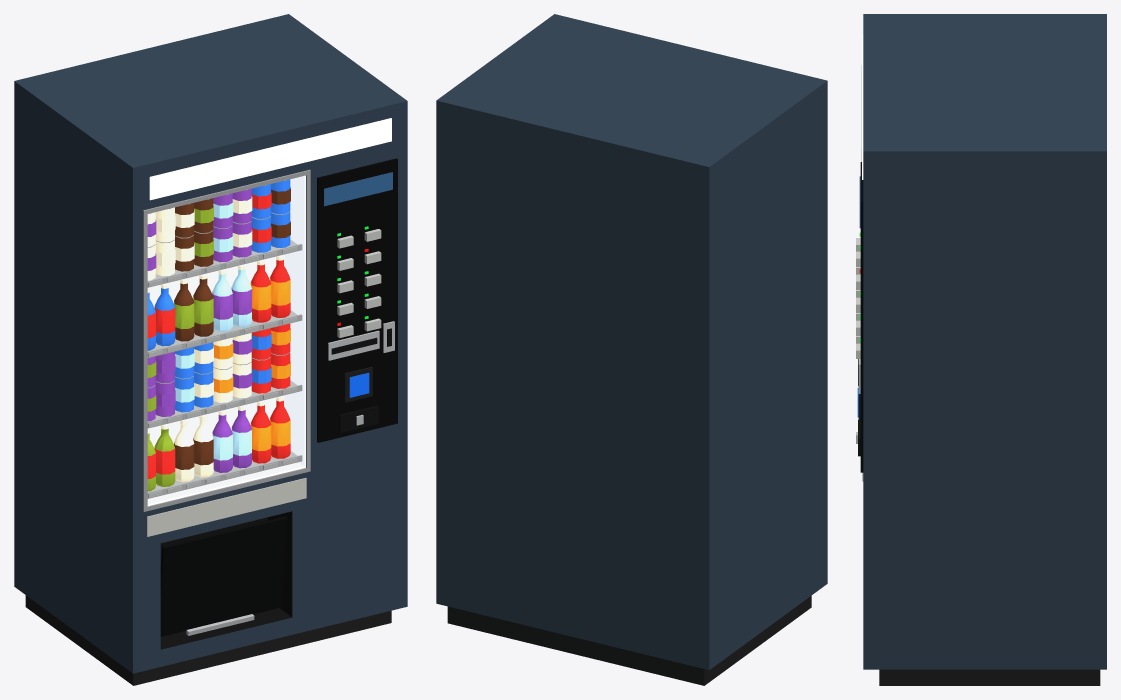
The model's file is gteki_vending_machine.glb.
The picture shows the model from 3 angles, left to right: view 1: azimuth 30°, elevation 25°; view 2: azimuth 150°, elevation 25°; view 3: azimuth 270°, elevation 25°; orthographic projection. The views are drawn at different scales.
Visible parts, largest first — view 1: VIS_body; view 2: VIS_body; view 3: VIS_body.
Part boxes in pixels (left/top/right/bottom): VIS_body: left=14, top=14, right=407, bottom=685; VIS_body: left=436, top=14, right=827, bottom=685; VIS_body: left=856, top=14, right=1106, bottom=685.
Size of what is drawn, in the model's own units: 1 by 1.83 by 0.772.
Materials: 2 (2 with a texture image).
